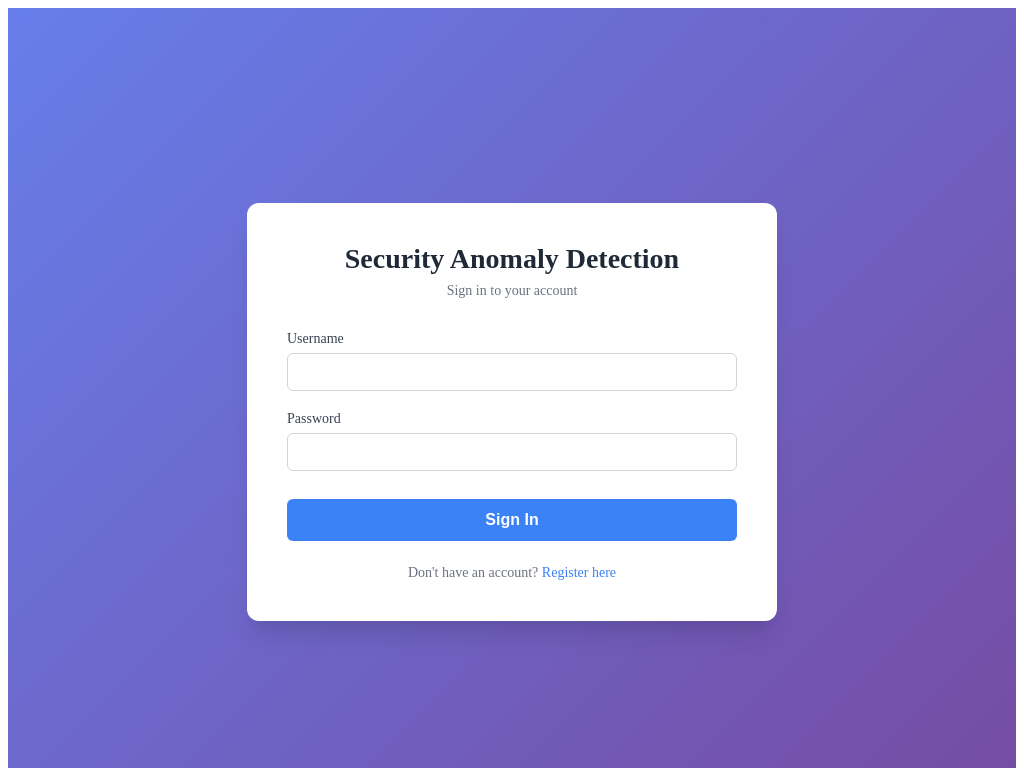
Test: Login Component › should display generic error message when error has no response
The width and height of the screenshot is (1024, 768).
Type "testuser" into the field labelled "Username" at (512, 372), box [287, 353, 737, 391]
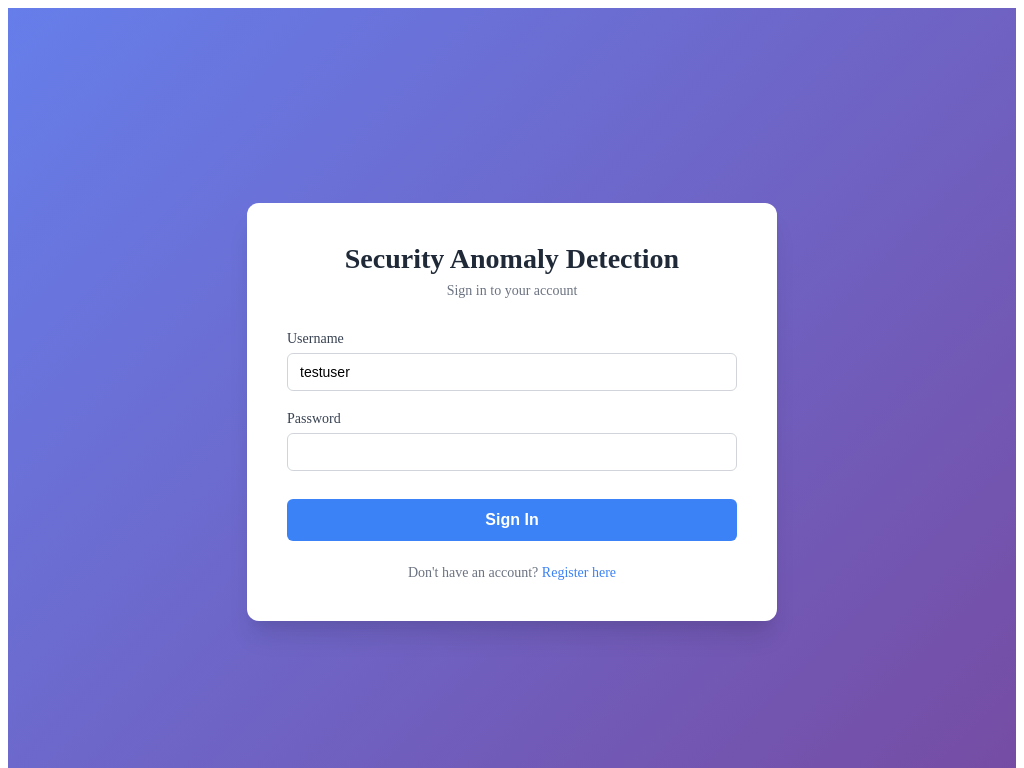
Type "password123" into the password field labelled "Password" at (512, 452), box [287, 433, 737, 471]
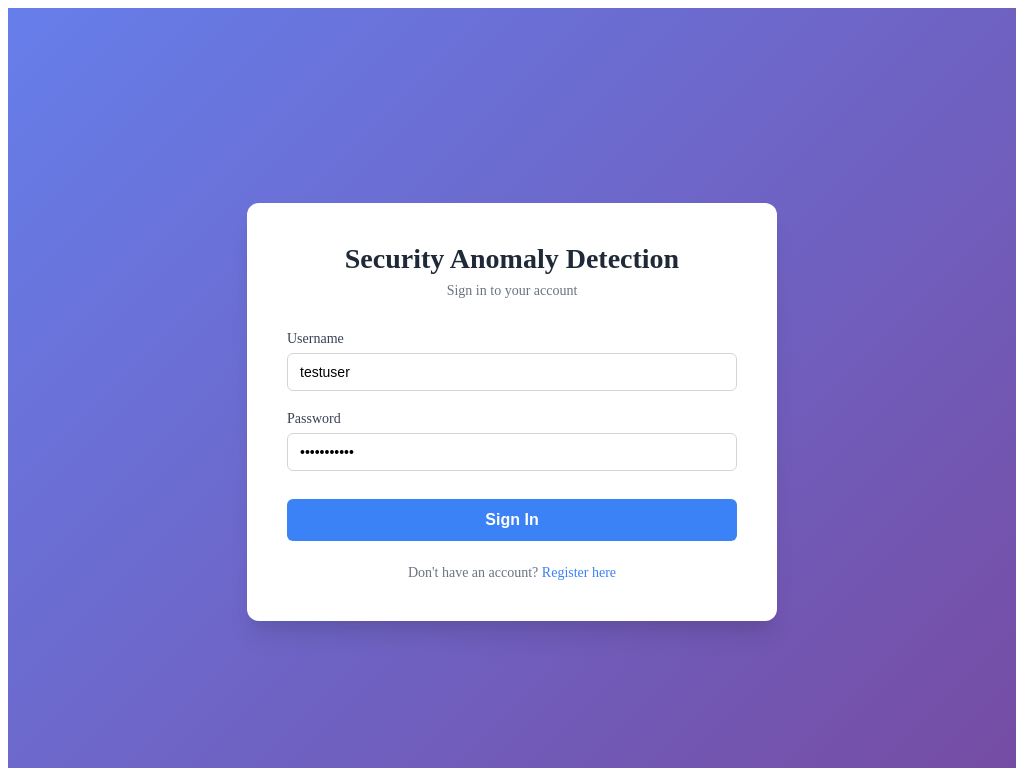
Click the button "Sign In" at (512, 520), box [287, 499, 737, 541]
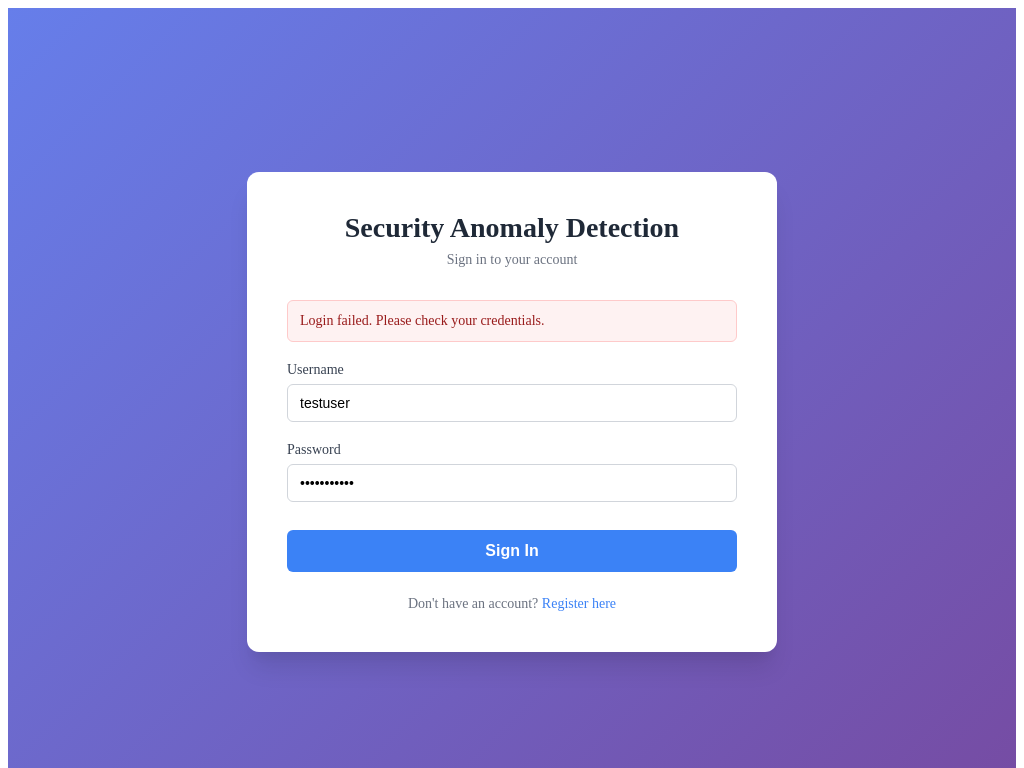
Expected: the text "Login failed. Please check your credentials." is shown, [287, 300, 737, 342]
